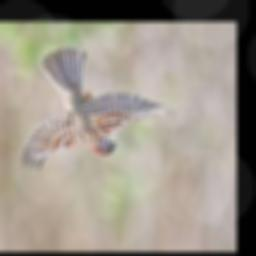Sparrow: (20, 48, 174, 173)
